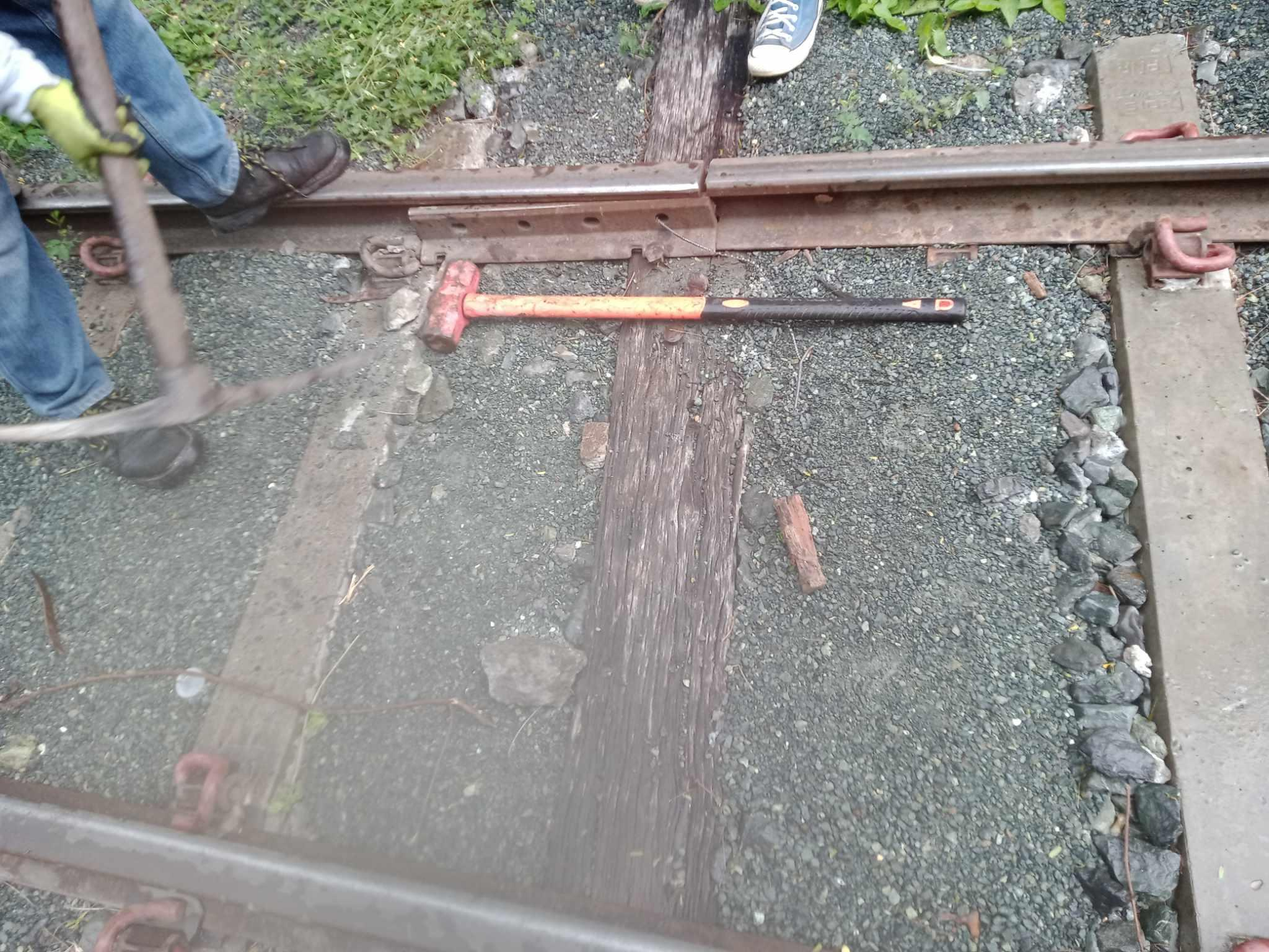railway-gap: (654, 144, 773, 260)
